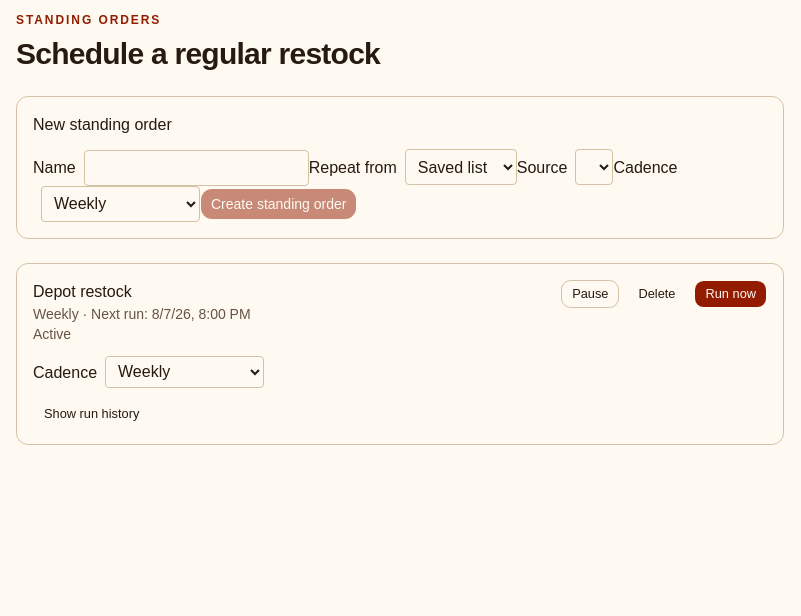
Test case: Standing orders journey › runs once and presents mixed server outcomes in history
Click the button "Run now" at (731, 294), box [694,280,767,308]
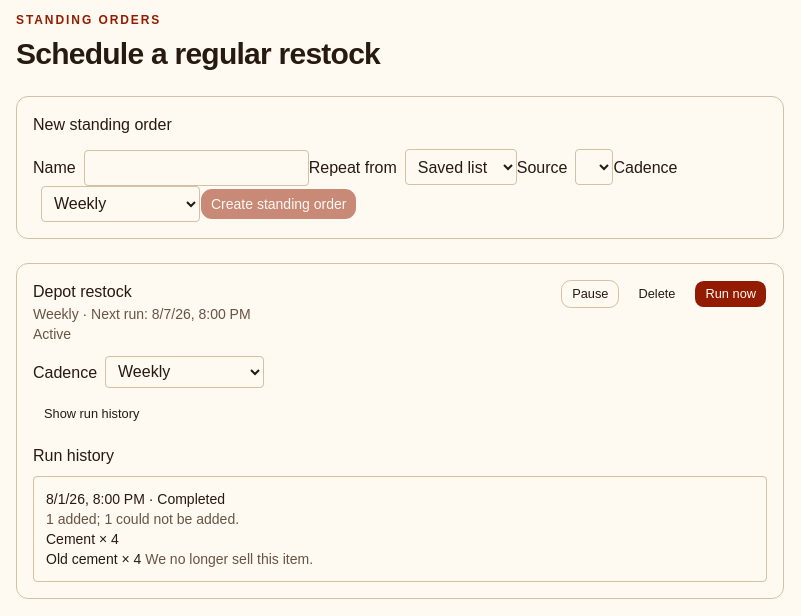
Expected: the element named "Run history for 1" shows "1 added; 1 could not be added.", [46,510,239,526]
Expected: the text "Cement × 4" is shown, [46,530,119,546]
Expected: the text "Old cement × 4" is shown, [46,550,141,566]
